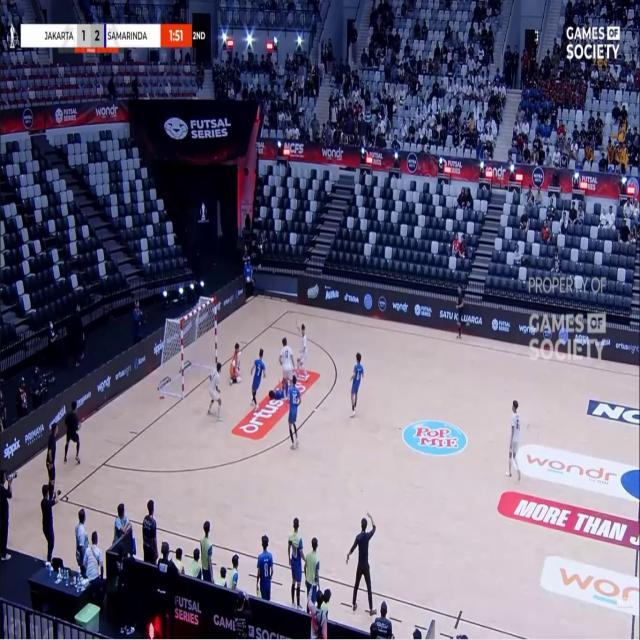keeper: (229, 343, 238, 385)
